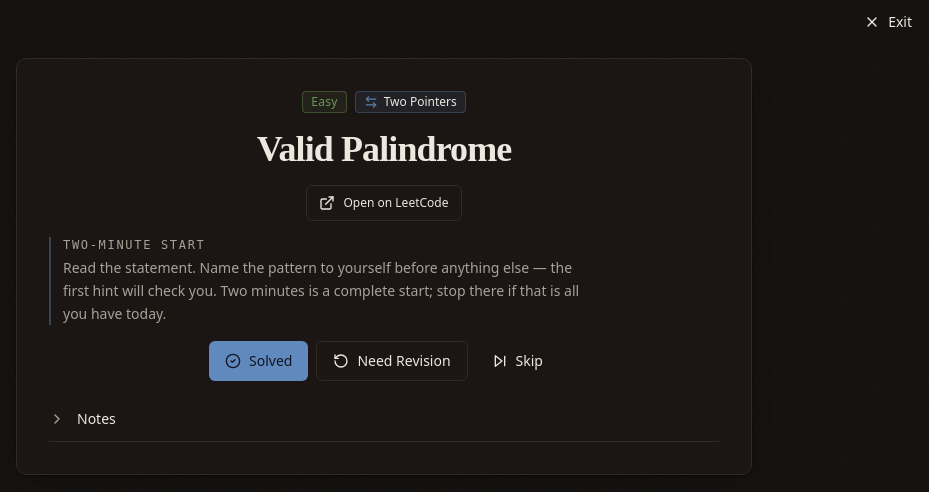
Test case: FocusPage: small entry (?entry=small — the five-minute re-entry) › after the one item is graded, the interstitial replaces it instead of serving the next
The width and height of the screenshot is (929, 492).
What coordinates should you click on to do the following:
click the button "Solved"
I would click on:
 (259, 361)
Its box is [209,341,308,381].
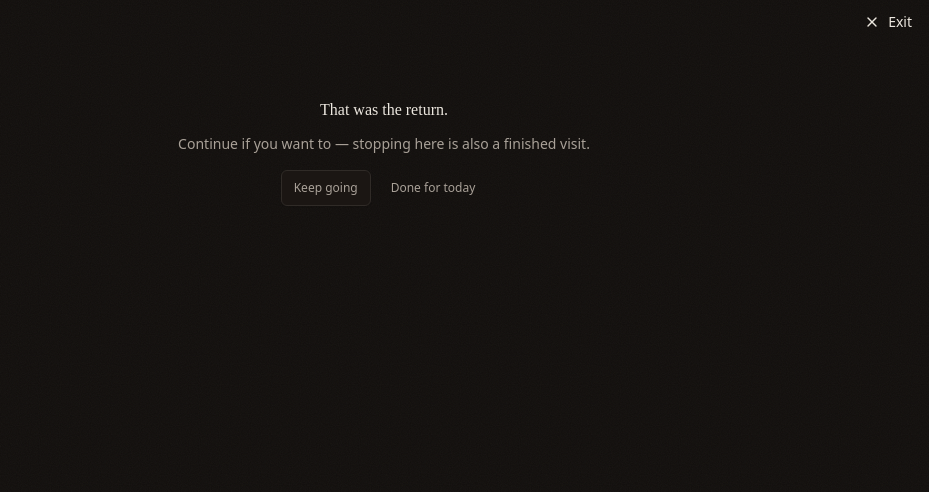
Result: the heading "Valid Palindrome" is gone
Result: the text "That was the return." is shown at [320,98,448,122]
Result: the text "Continue if you want to — stopping here is also a finished visit." is shown at [178,134,590,154]
